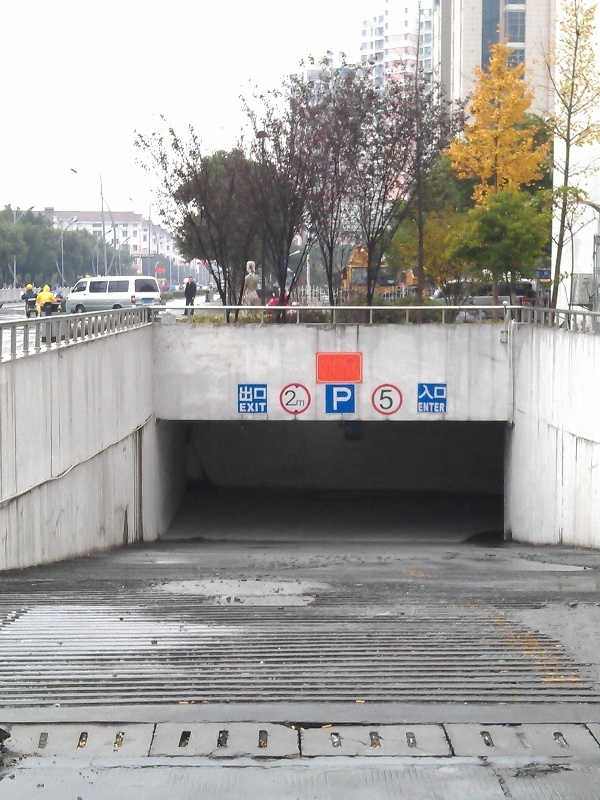text: (337, 387, 353, 411), (289, 389, 304, 408), (241, 386, 256, 402), (433, 385, 447, 400), (419, 385, 432, 400), (385, 390, 394, 410), (257, 386, 267, 402), (418, 402, 432, 413), (241, 403, 256, 413), (433, 402, 446, 413), (257, 403, 268, 413), (379, 390, 384, 410), (332, 387, 336, 411), (529, 271, 544, 276), (285, 389, 288, 408), (545, 271, 549, 276), (305, 389, 306, 408), (239, 386, 240, 402), (145, 301, 151, 303), (239, 403, 240, 413)
